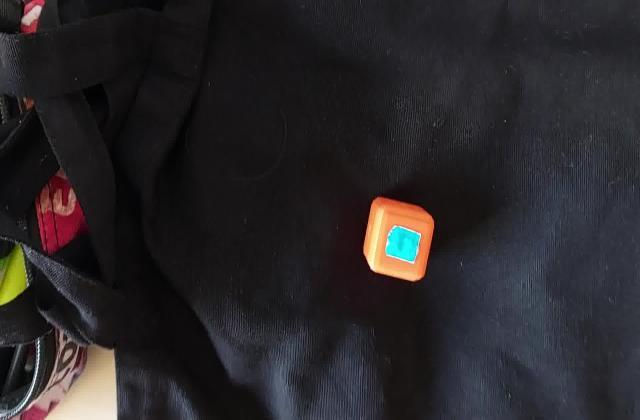blue: (392, 230, 416, 256)
sticker: (360, 194, 435, 285)
